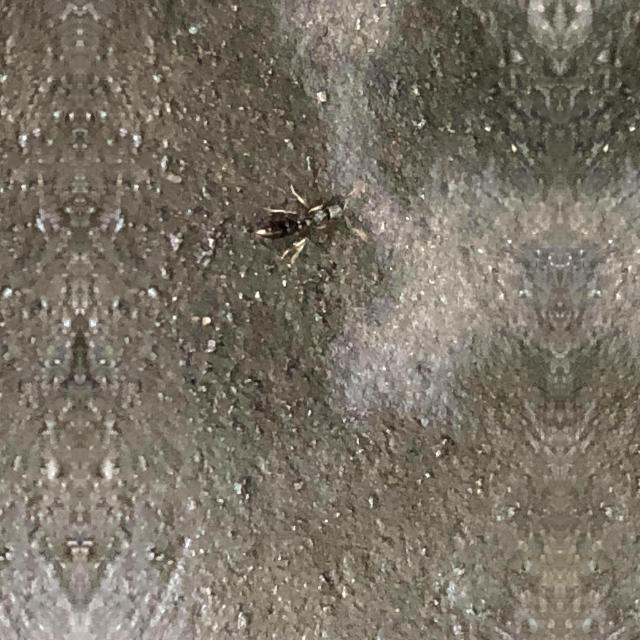Ponera: (243, 167, 373, 263)
